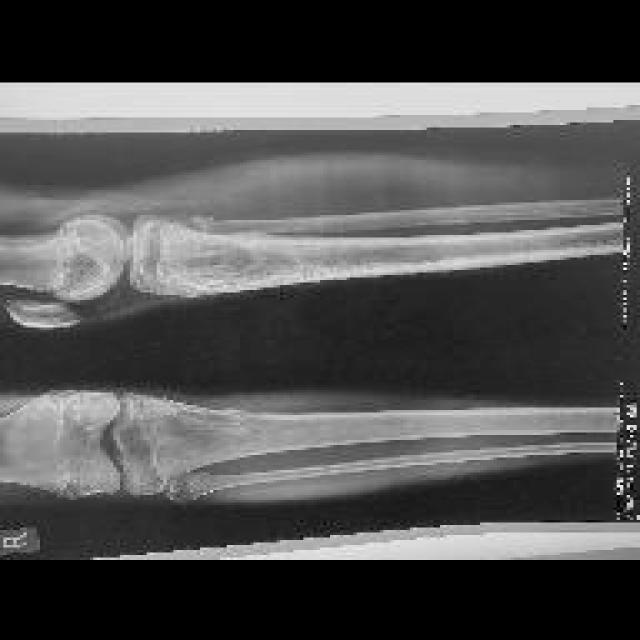bone-cancer: (136, 405, 288, 469), (158, 227, 305, 287)
